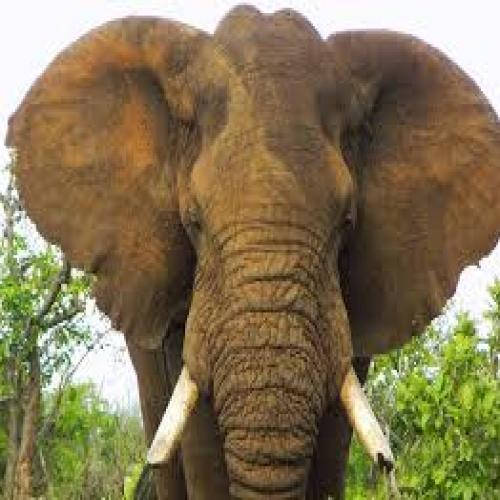asian_elephant-endangered: (12, 10, 494, 496)
